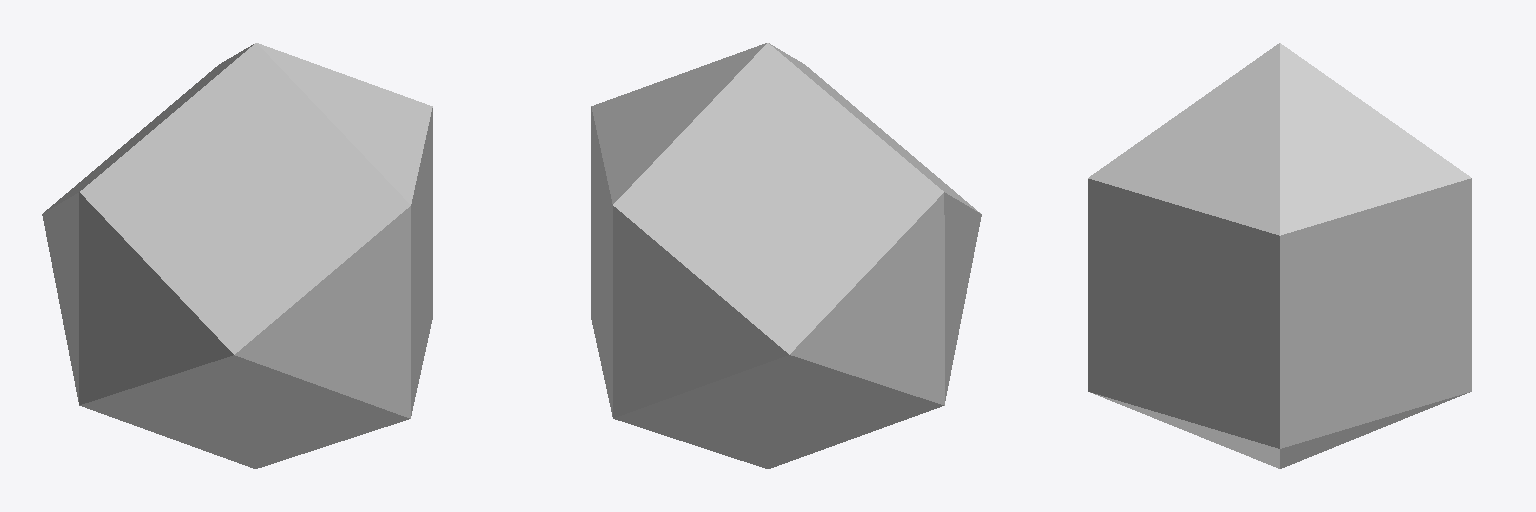
File: TriangularOrthoBiCupola.obj
The picture shows the model from 3 angles: view 1: azimuth 30°, elevation 25°; view 2: azimuth 150°, elevation 25°; view 3: azimuth 270°, elevation 25°; orthographic projection.
Parts seen in each view (by area): view 1: TriangularOrthoBiCupola; view 2: TriangularOrthoBiCupola; view 3: TriangularOrthoBiCupola.
Part boxes in pixels (bbox=[...]): TriangularOrthoBiCupola: bbox=[42, 43, 432, 468]; TriangularOrthoBiCupola: bbox=[591, 43, 981, 468]; TriangularOrthoBiCupola: bbox=[1088, 43, 1471, 468].
Size of the model in its own units: 1.3 by 1.5 by 1.23.